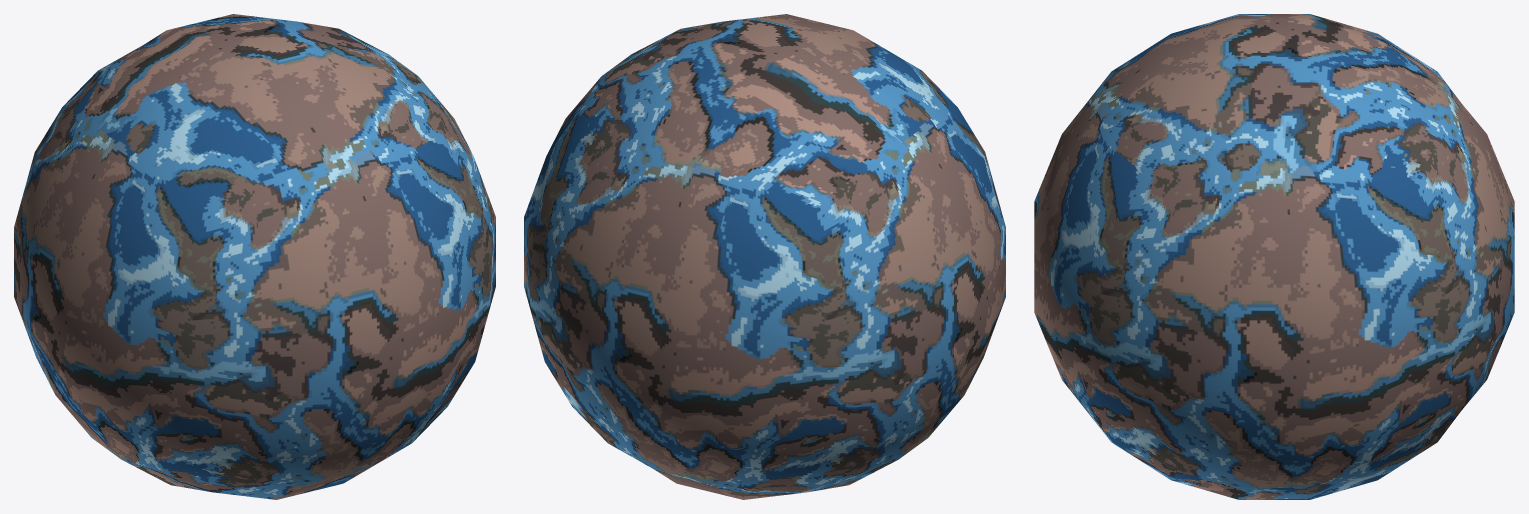
File: azul-gris.glb
3 views of the same model, side by side, from view 1: azimuth 30°, elevation 25°; view 2: azimuth 150°, elevation 25°; view 3: azimuth 270°, elevation 25° (orthographic).
Visible parts, largest first — view 1: Asset3DLoader.sceneRoot; view 2: Asset3DLoader.sceneRoot; view 3: Asset3DLoader.sceneRoot.
Part boxes in pixels (x1=…): Asset3DLoader.sceneRoot: x1=14, y1=14, x2=495, y2=499; Asset3DLoader.sceneRoot: x1=524, y1=14, x2=1005, y2=499; Asset3DLoader.sceneRoot: x1=1034, y1=14, x2=1514, y2=499.
Size of the model in its own units: 3.36 by 3.36 by 3.36.
Materials: 1 (1 with a texture image).
